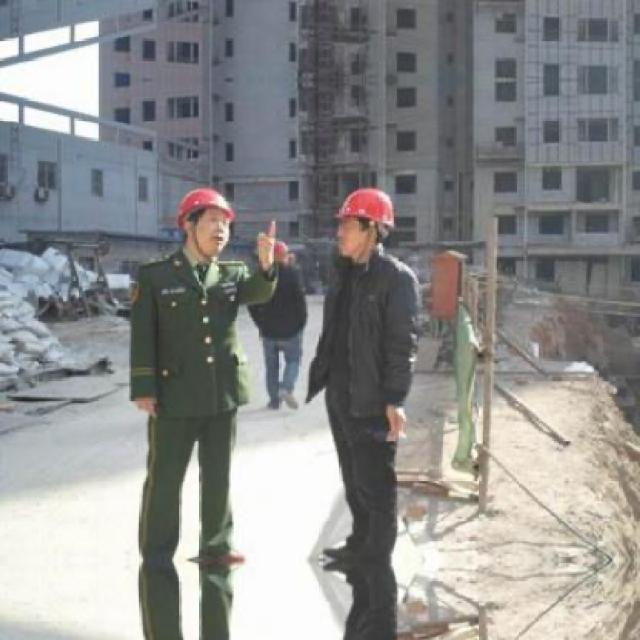helmet: (165, 178, 246, 262), (331, 177, 402, 266)
